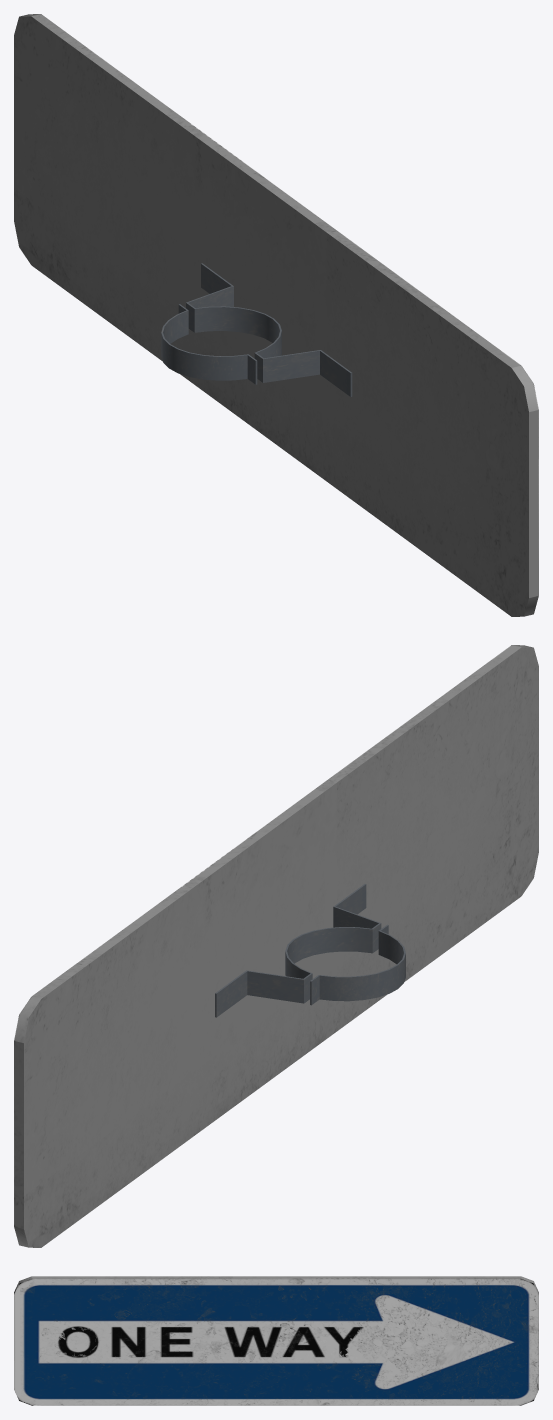
File: Sign-One-Way.fbx
3 views of the same model, one above another, from view 1: azimuth 30°, elevation 25°; view 2: azimuth 150°, elevation 25°; view 3: azimuth 270°, elevation 25° (orthographic). The views are drawn at different scales.
Parts seen in each view (by area): view 1: Sign_One_Way; view 2: Sign_One_Way; view 3: Sign_One_Way.
Boxes of the visible parts, left/top/right/bottom form: Sign_One_Way: left=14, top=14, right=538, bottom=616; Sign_One_Way: left=14, top=645, right=538, bottom=1247; Sign_One_Way: left=14, top=1276, right=538, bottom=1405.
Bounding box in the file's own units: 9.66 × 19.2 × 72.
